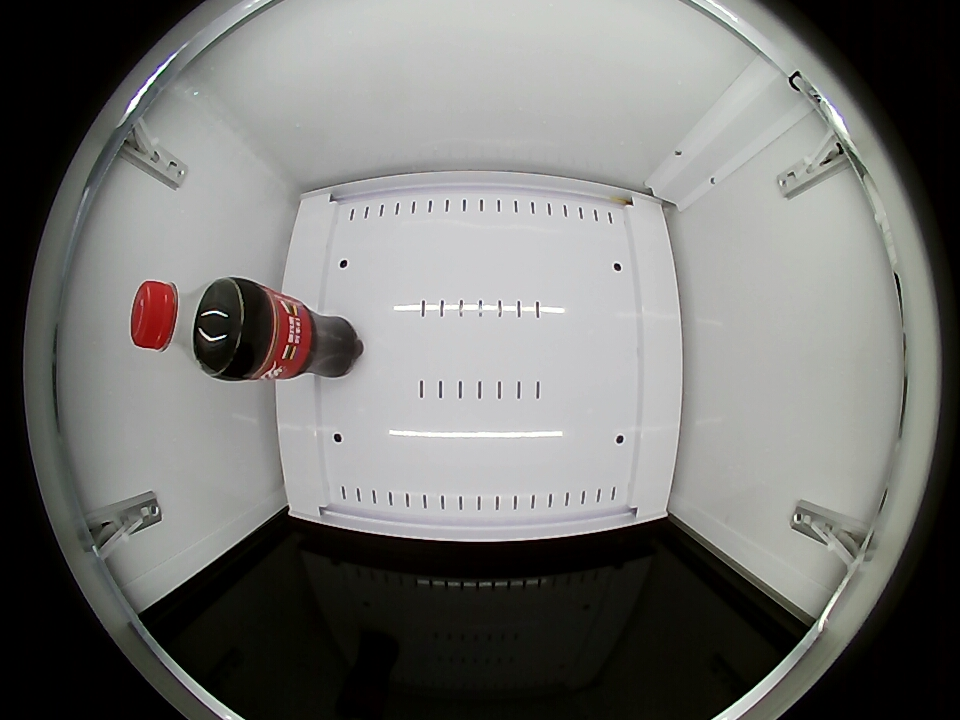kele-b: (130, 278, 244, 373)
